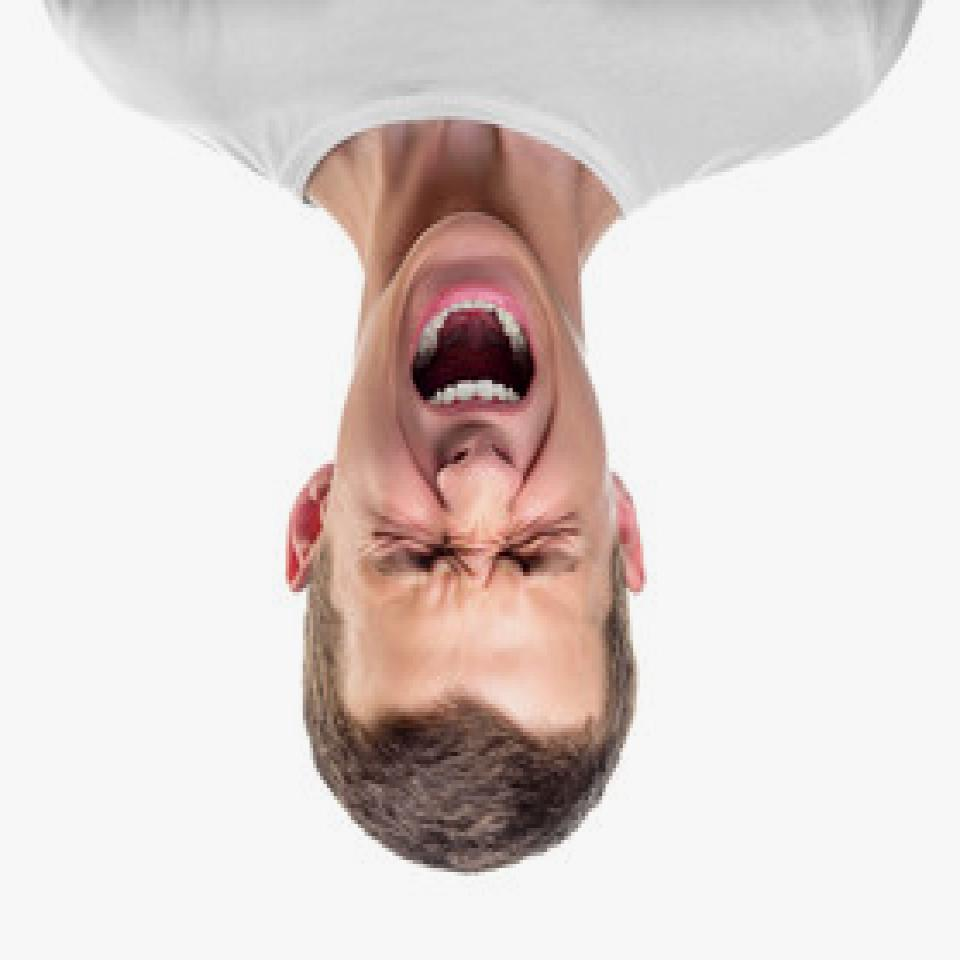Anger: (318, 211, 624, 703)
